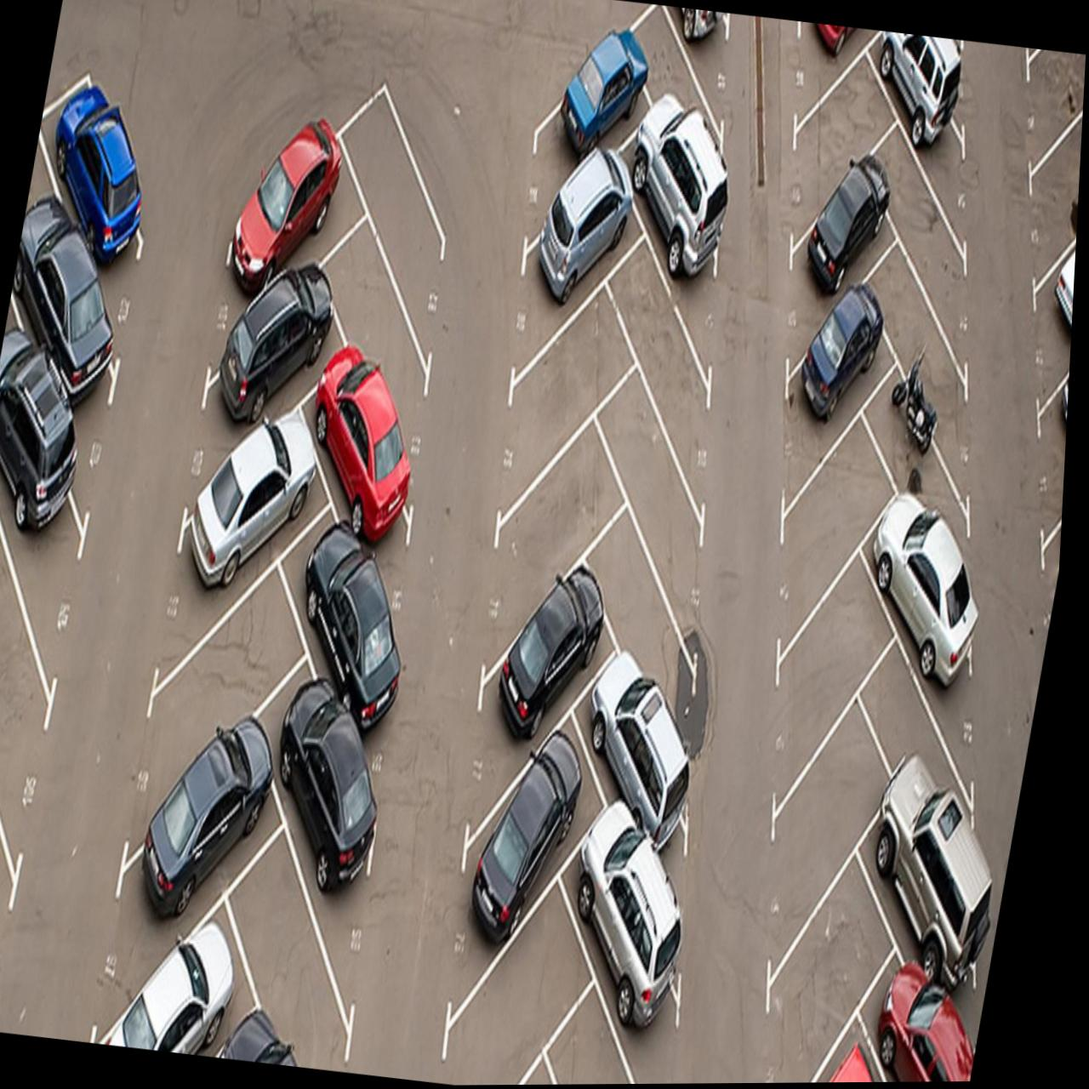cars: (104, 717, 280, 969), (545, 781, 705, 1051), (0, 177, 148, 463), (455, 683, 594, 974), (266, 523, 448, 742), (251, 679, 406, 932), (559, 634, 710, 883), (851, 770, 1013, 1002), (0, 331, 127, 626), (14, 60, 175, 289), (469, 536, 613, 786), (151, 421, 301, 660), (294, 352, 444, 583), (184, 258, 331, 473), (850, 485, 1000, 691), (761, 146, 907, 340), (763, 266, 894, 479), (842, 343, 982, 540), (614, 113, 745, 312), (509, 139, 637, 338), (221, 126, 357, 307), (852, 932, 983, 1082), (524, 0, 653, 142), (863, 31, 984, 171), (1023, 175, 1080, 412), (0, 894, 29, 1034)
empty: (120, 558, 293, 820), (549, 454, 718, 696), (434, 849, 596, 1085), (0, 497, 100, 872), (841, 224, 1003, 450), (756, 823, 890, 1081), (316, 91, 470, 315), (212, 835, 377, 1044), (754, 538, 896, 776), (479, 408, 621, 642), (750, 703, 895, 921), (576, 346, 722, 561), (756, 415, 889, 648), (299, 234, 449, 435), (593, 225, 736, 435), (852, 646, 992, 840), (852, 115, 988, 312), (504, 279, 622, 490), (772, 45, 906, 213), (614, 6, 740, 140), (1025, 64, 1085, 285), (0, 699, 44, 999), (1016, 48, 1086, 162)
